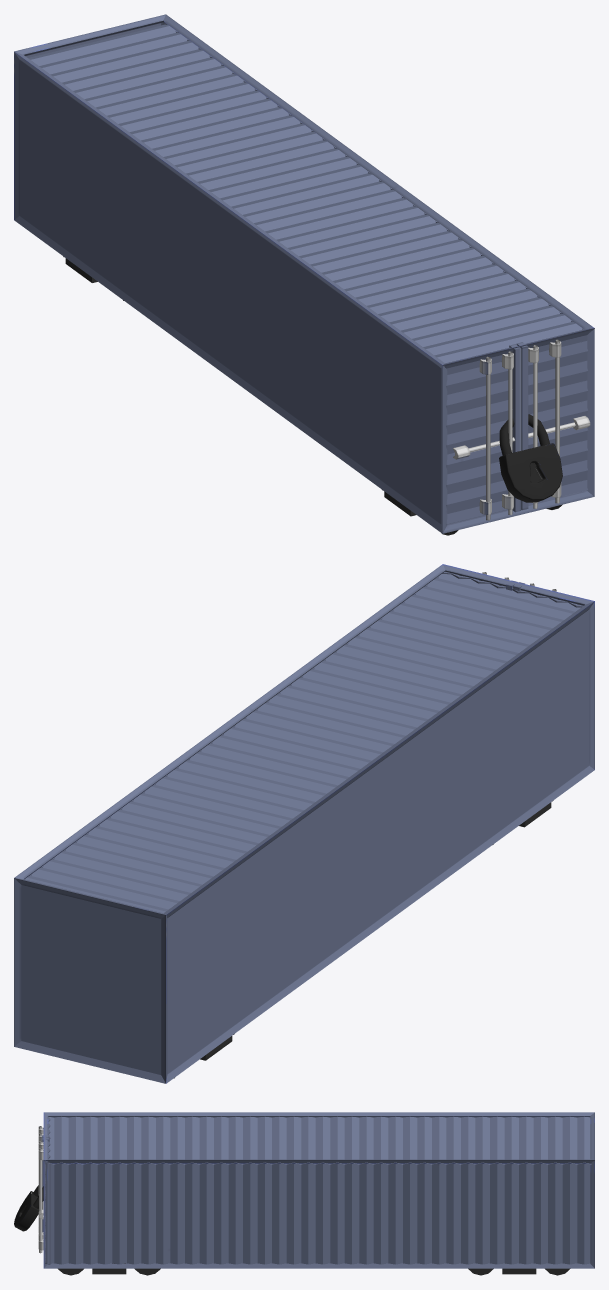
The model's file is container.fbx.
The picture shows the model from 3 angles, top to bottom: view 1: azimuth 30°, elevation 25°; view 2: azimuth 150°, elevation 25°; view 3: azimuth 270°, elevation 25°; orthographic projection. The views are drawn at different scales.
Visible parts, largest first — view 1: wagon-container, wagon-container-door-l, wagon-container-door-right, lock, wagon-sandbox-door; view 2: wagon-container; view 3: wagon-container, wagon-container-door-right, lock, wagon-sandbox-door.
Part boxes in pixels (bbox=[...]): wagon-container: bbox=[14, 14, 594, 535]; wagon-container-door-l: bbox=[446, 344, 521, 524]; wagon-container-door-right: bbox=[516, 335, 590, 510]; lock: bbox=[499, 443, 562, 502]; wagon-sandbox-door: bbox=[445, 328, 594, 501]; wagon-container: bbox=[14, 564, 594, 1083]; wagon-container: bbox=[43, 1112, 594, 1275]; wagon-container-door-right: bbox=[38, 1137, 49, 1263]; lock: bbox=[14, 1191, 38, 1231]; wagon-sandbox-door: bbox=[43, 1117, 50, 1264].
Size of the model in its own units: 82.55 by 98.2 by 424.
